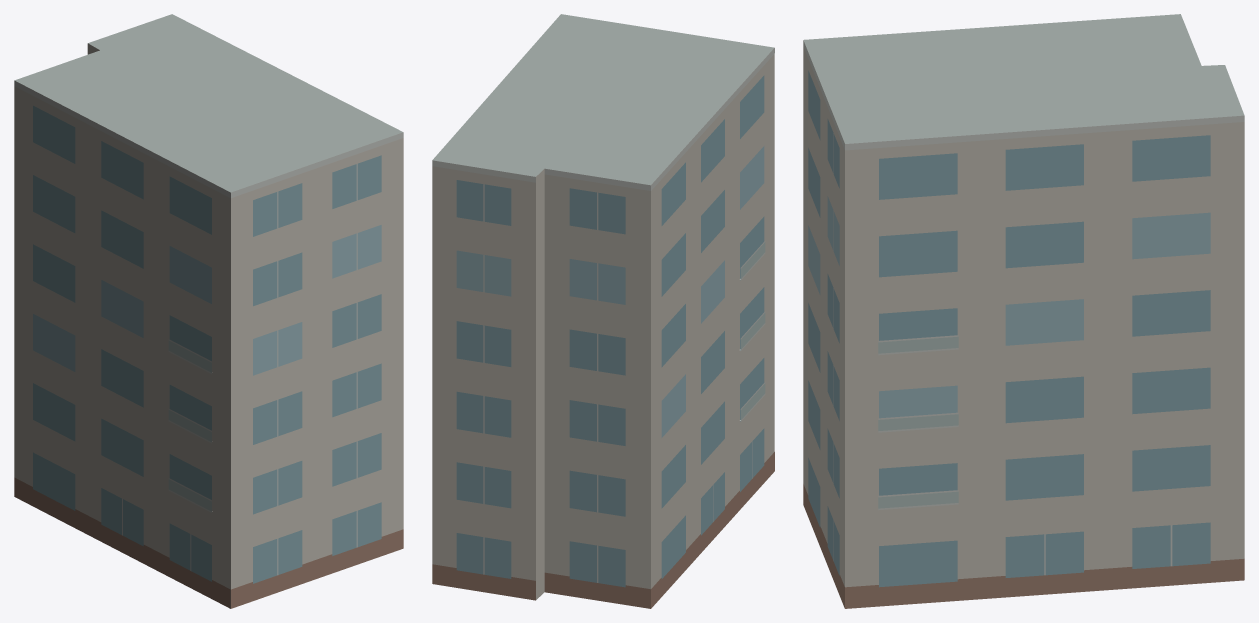
The model's file is survey-upis-32948289.glb.
The picture shows the model from 3 angles, left to right: view 1: azimuth 30°, elevation 25°; view 2: azimuth 150°, elevation 25°; view 3: azimuth 270°, elevation 25°; orthographic projection. The views are drawn at different scales.
Visible parts, largest first — view 1: survey-upis-32948289.tmp; view 2: survey-upis-32948289.tmp; view 3: survey-upis-32948289.tmp.
Part boxes in pixels (x1=…): survey-upis-32948289.tmp: x1=14, y1=14, x2=403, y2=608; survey-upis-32948289.tmp: x1=432, y1=14, x2=774, y2=608; survey-upis-32948289.tmp: x1=803, y1=14, x2=1244, y2=608.
Bounding box in the file's own units: 10.69 × 17.8 × 15.33.
